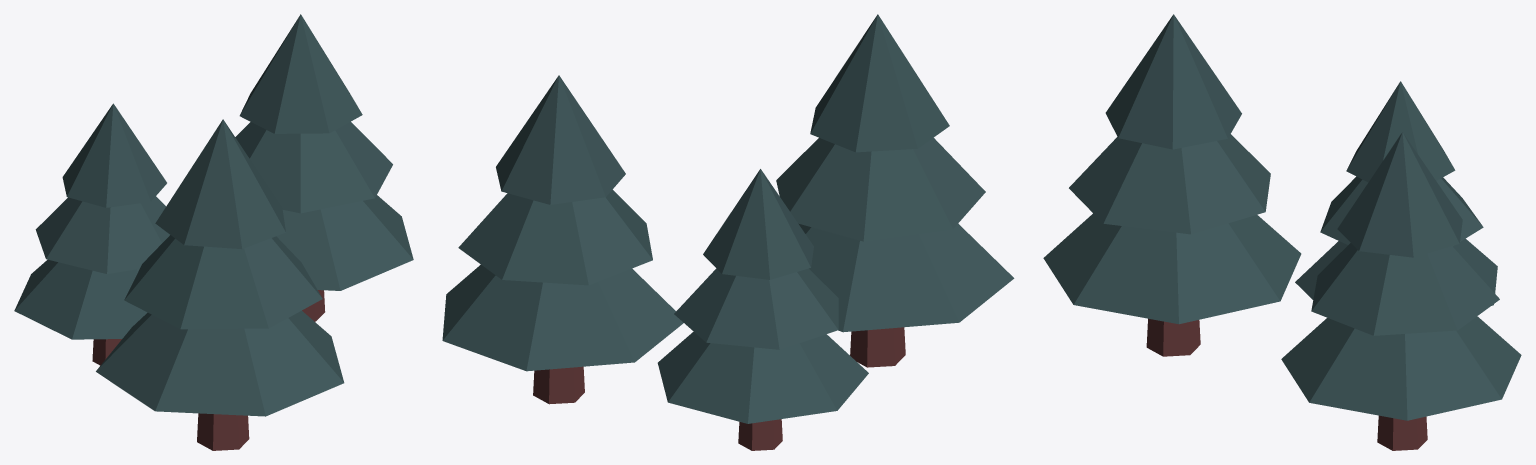
File: grove6.glb
The picture shows the model from 3 angles, left to right: view 1: azimuth 30°, elevation 25°; view 2: azimuth 150°, elevation 25°; view 3: azimuth 270°, elevation 25°; orthographic projection. The views are drawn at different scales.
Parts seen in each view (by area): view 1: grove6; view 2: grove6; view 3: grove6.
Boxes of the visible parts, left/top/right/bottom form: grove6: left=14, top=14, right=413, bottom=450; grove6: left=442, top=14, right=1014, bottom=450; grove6: left=1043, top=14, right=1521, bottom=450.
Size of the model in its own units: 1.32 by 1.03 by 1.35.
